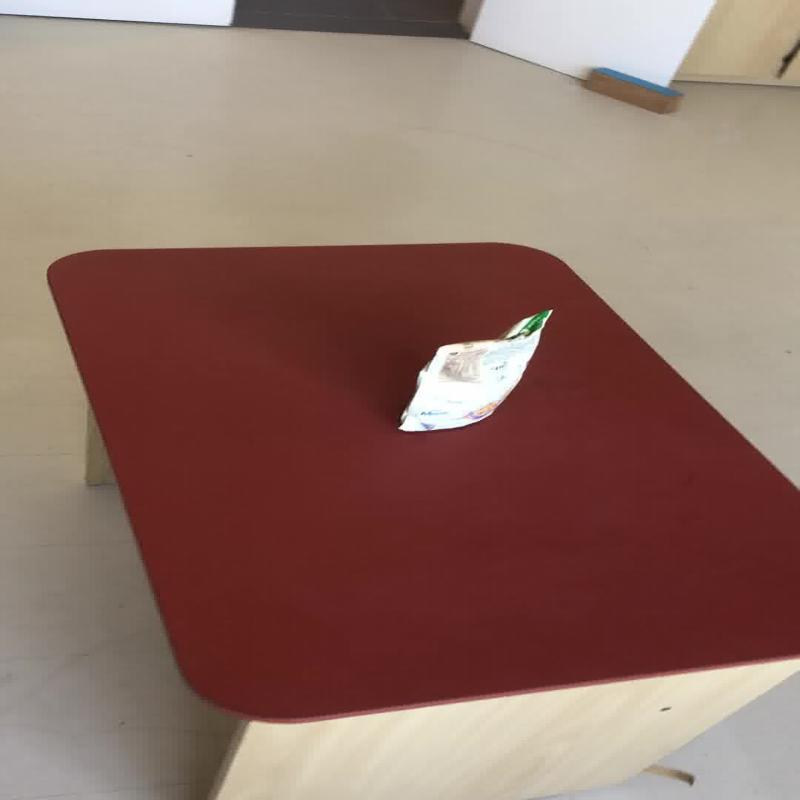corn flakes: (394, 306, 554, 432)
